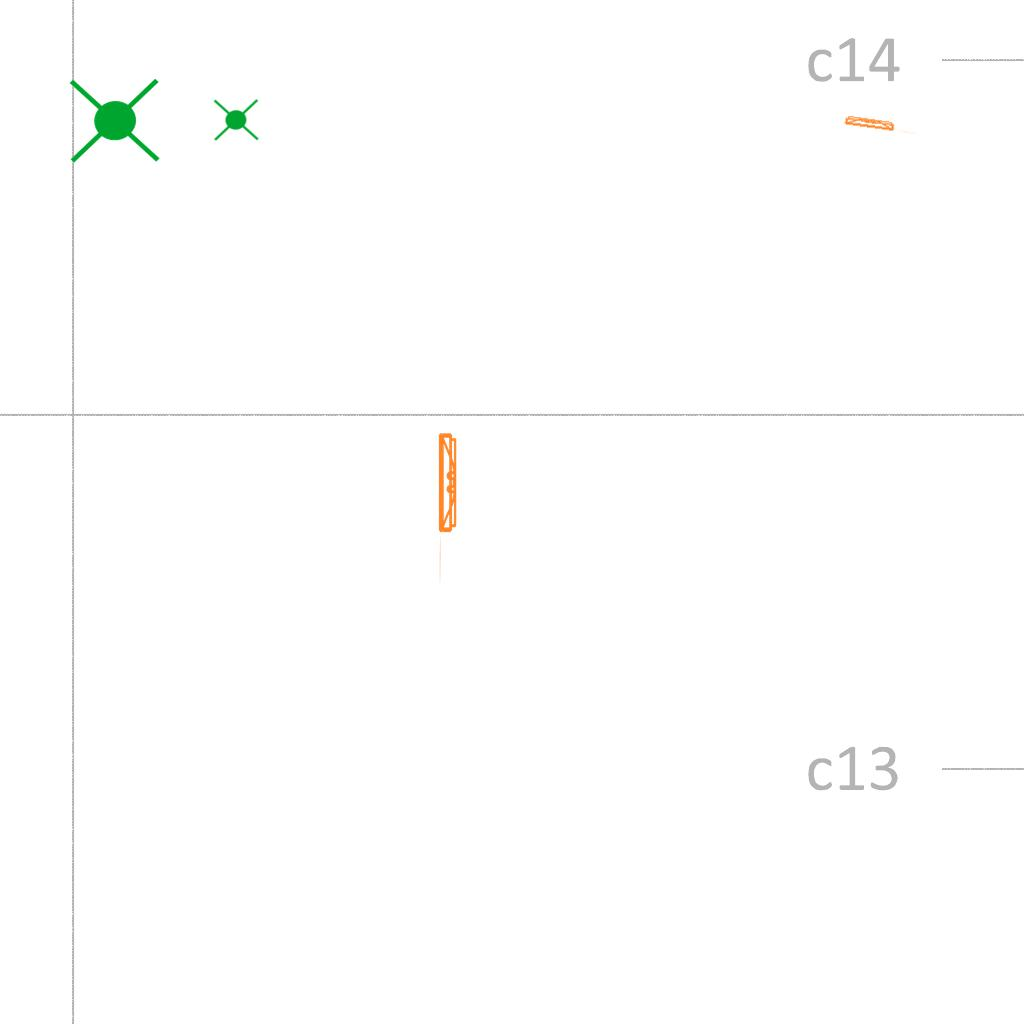Notlichtbaustein_in_Allgemeinbeleuchtug_engebaut_Einbau_(1UG_und_2UG_Aufbauvaria: (65, 68, 165, 171), (211, 95, 261, 146)
Sicherheitsleuchte_Wandeinbau: (436, 428, 461, 587), (842, 113, 922, 136)
